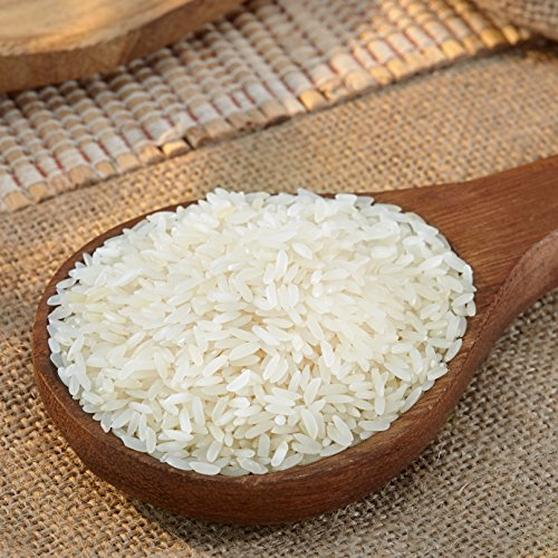rice: (65, 194, 439, 447)
